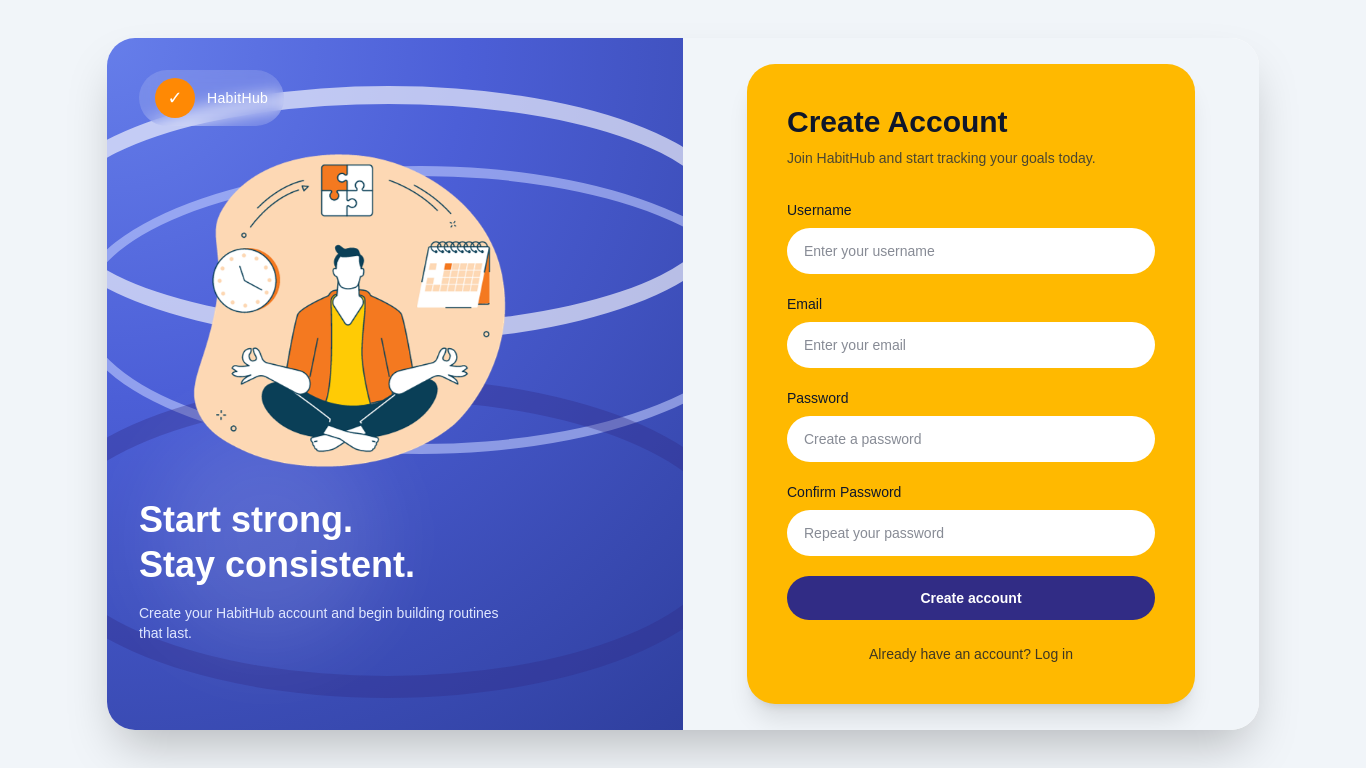
Test case: RegisterPage › shows backend error when registration fails
Step 1. Type "ashley" into the field labelled "Username" → (971, 251), box [787,228,1155,274]
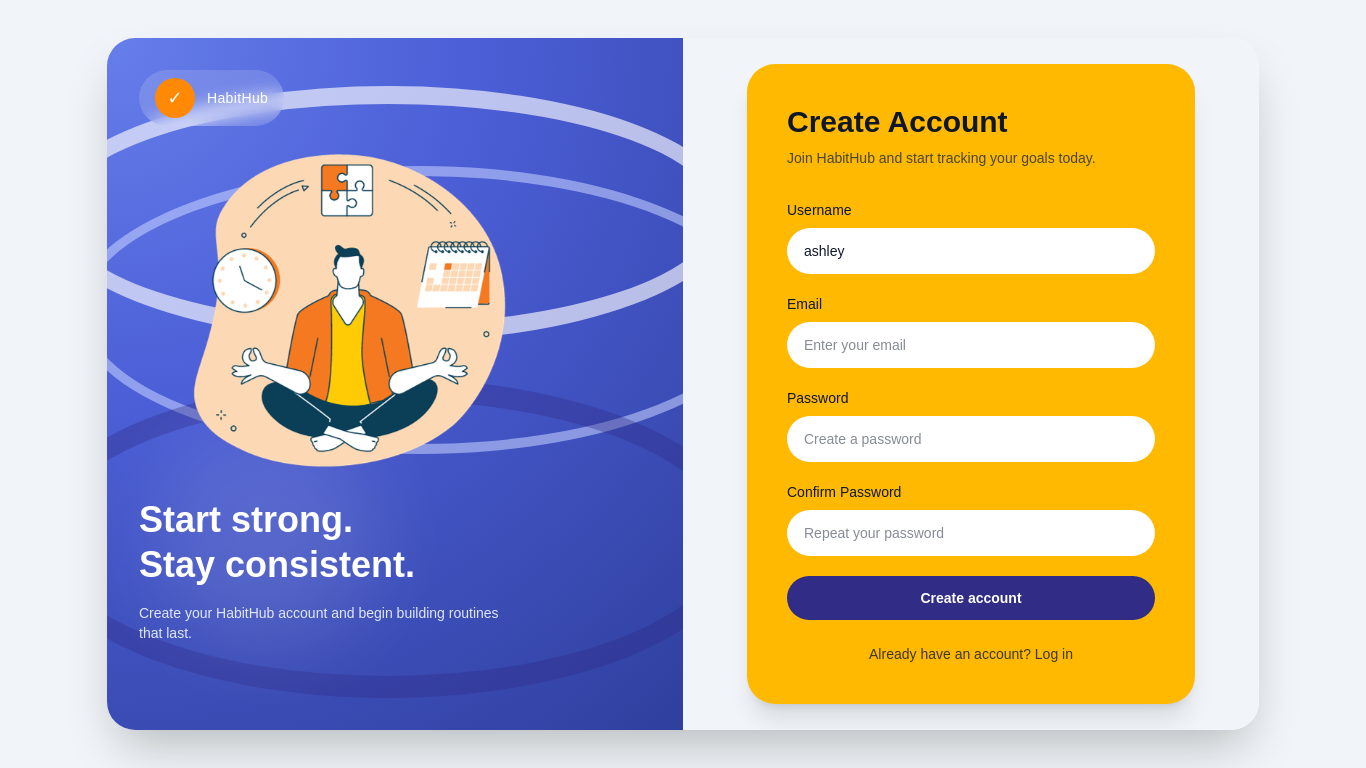
Step 2. Type "test@example.com" into the field labelled "Email" → (971, 345), box [787,322,1155,368]
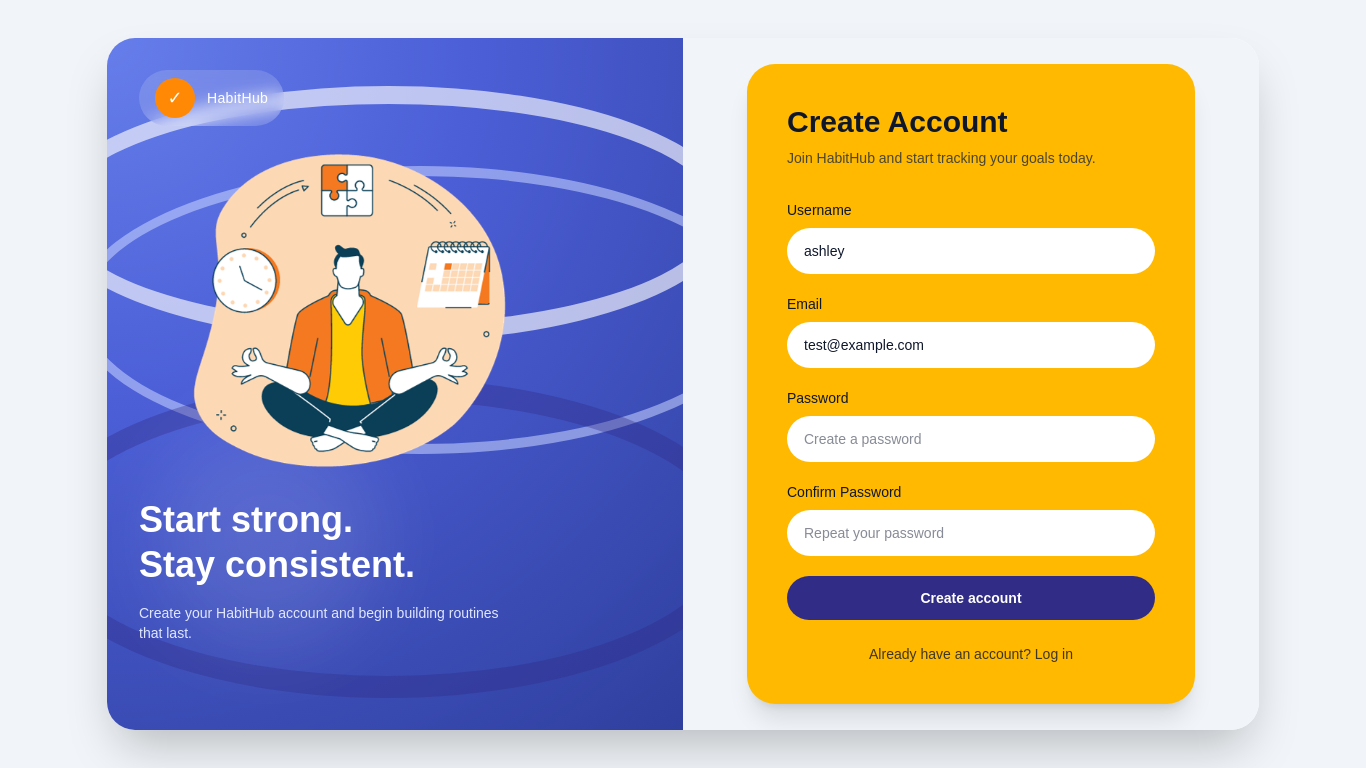
Step 3. Type "123456" into the password field labelled "Password" → (971, 439), box [787,416,1155,462]
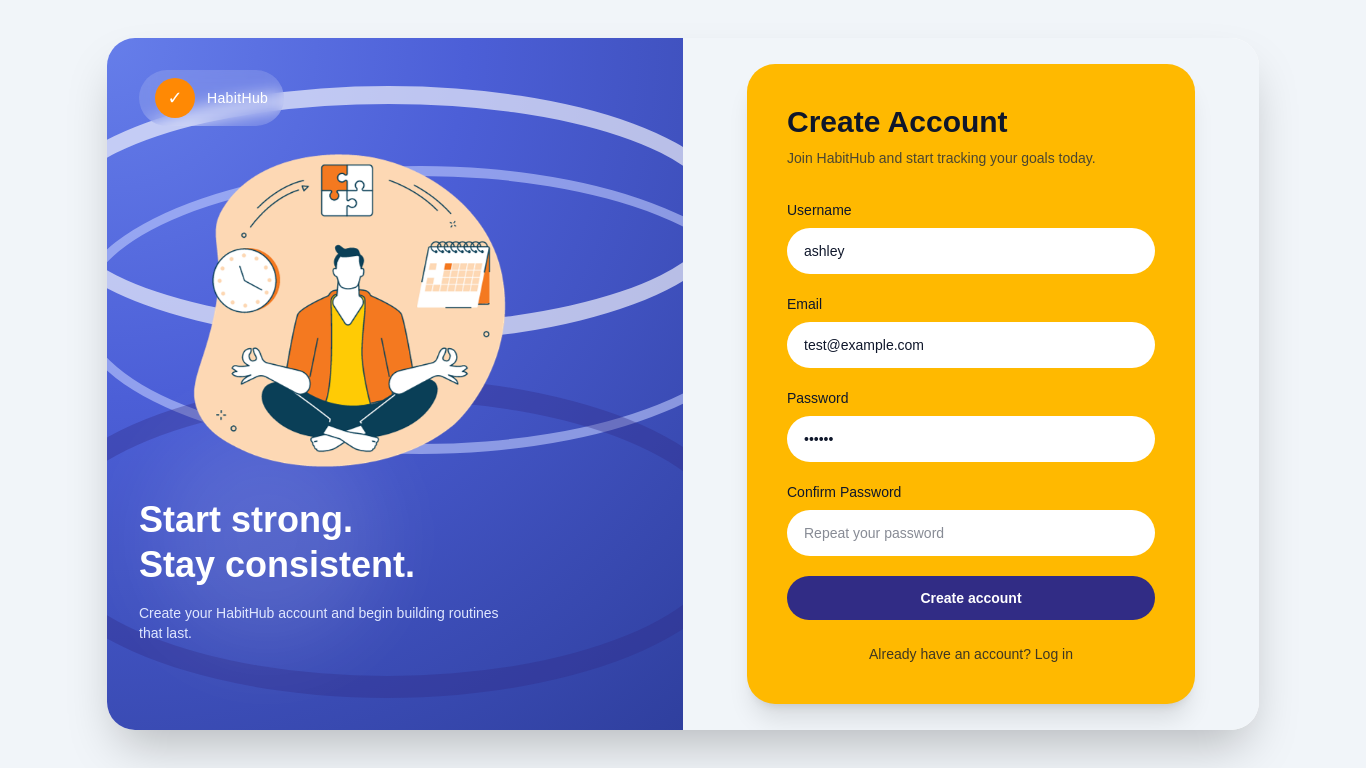
Step 4. Type "123456" into the password field labelled "Confirm Password" → (971, 533), box [787,510,1155,556]
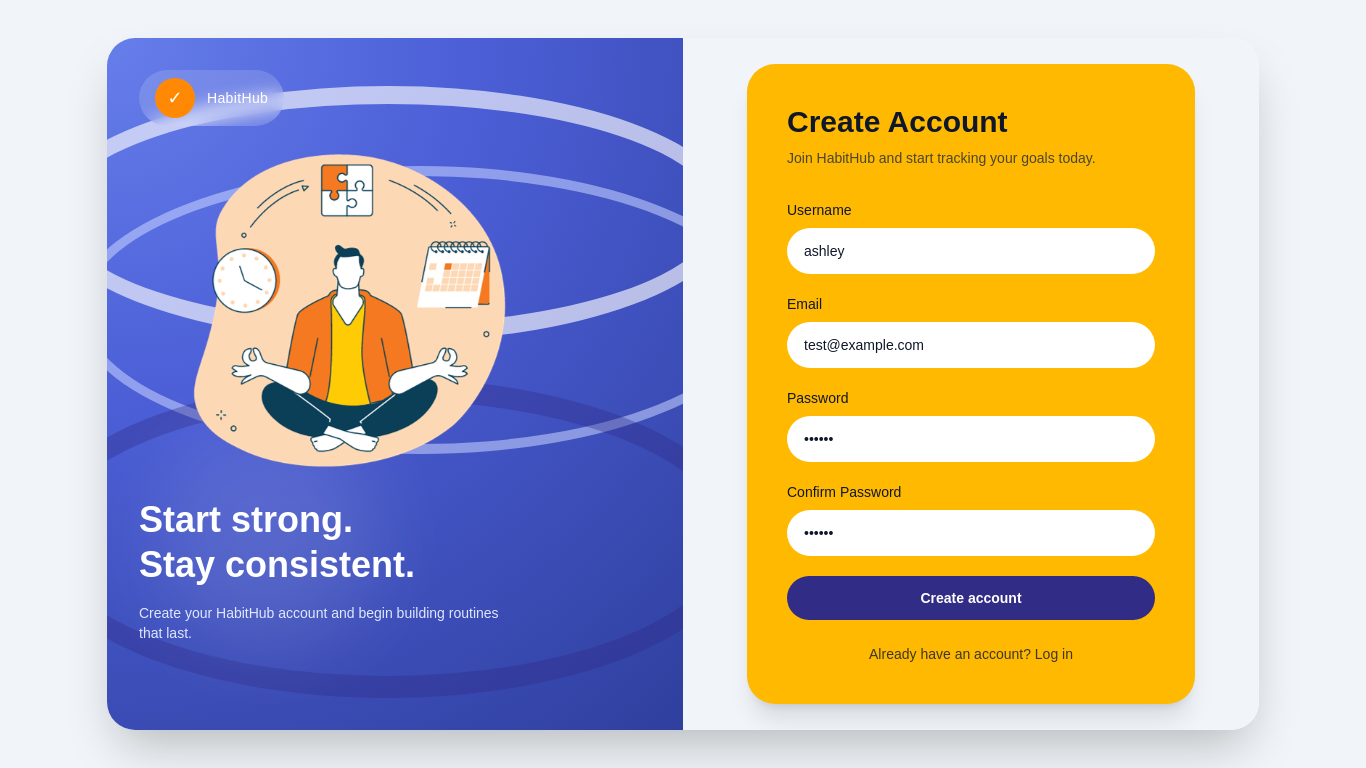
Step 5. Click the button "Create account" → click(971, 598), box [787,576,1155,620]
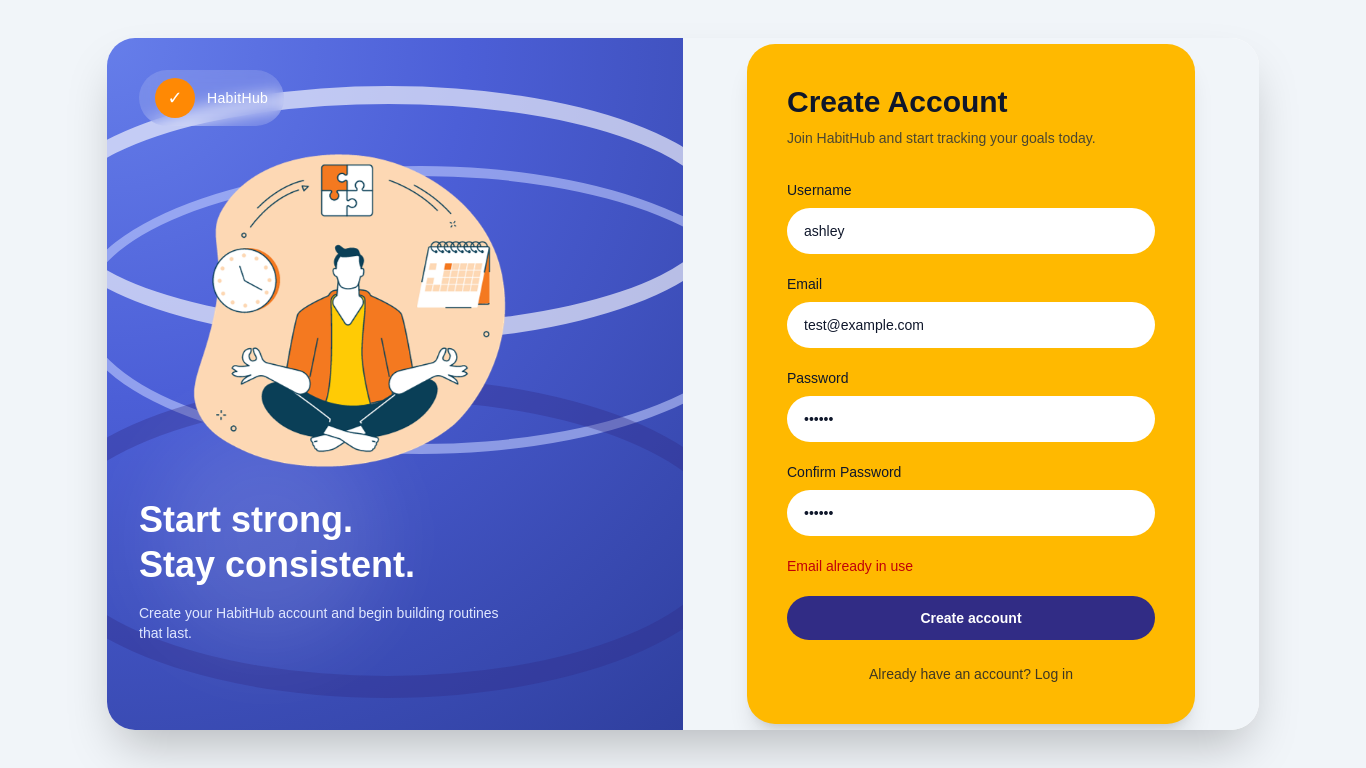
Result: the text "Email already in use" is shown at [787,558,913,574]
